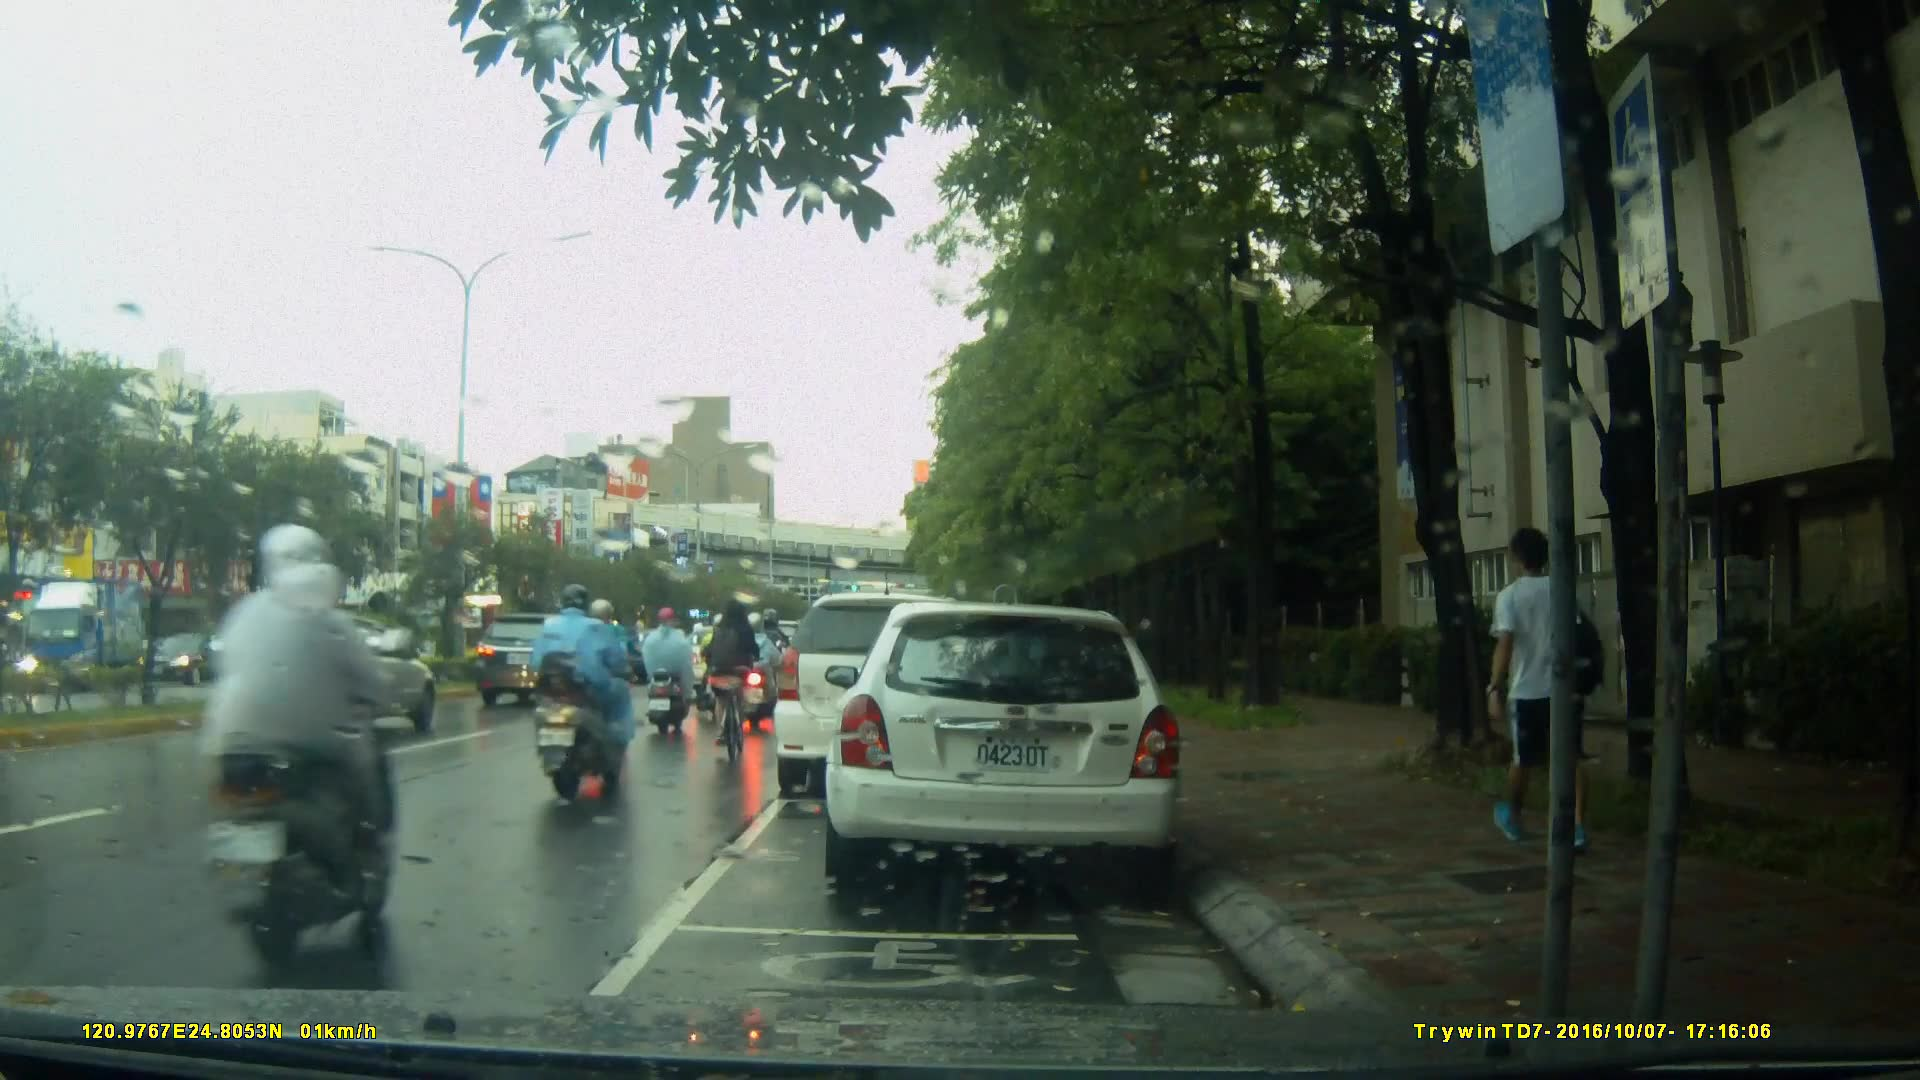pedestrian: (1492, 504, 1610, 890)
rider: (173, 521, 403, 965), (528, 583, 638, 804), (258, 579, 353, 809), (700, 598, 758, 777), (641, 603, 698, 731), (734, 616, 784, 728), (693, 609, 736, 710)
vehicle: (822, 604, 1188, 882), (774, 595, 995, 802), (213, 611, 442, 740), (20, 576, 161, 697), (470, 612, 610, 708), (144, 630, 241, 686)
